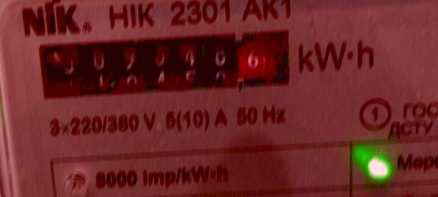0: (88, 46, 104, 70), (58, 48, 72, 75)
3: (149, 42, 164, 68)
4: (179, 40, 194, 68)
6: (241, 43, 260, 71)
8: (209, 39, 225, 68)
9: (118, 44, 134, 71)
screen: (26, 23, 299, 108)
